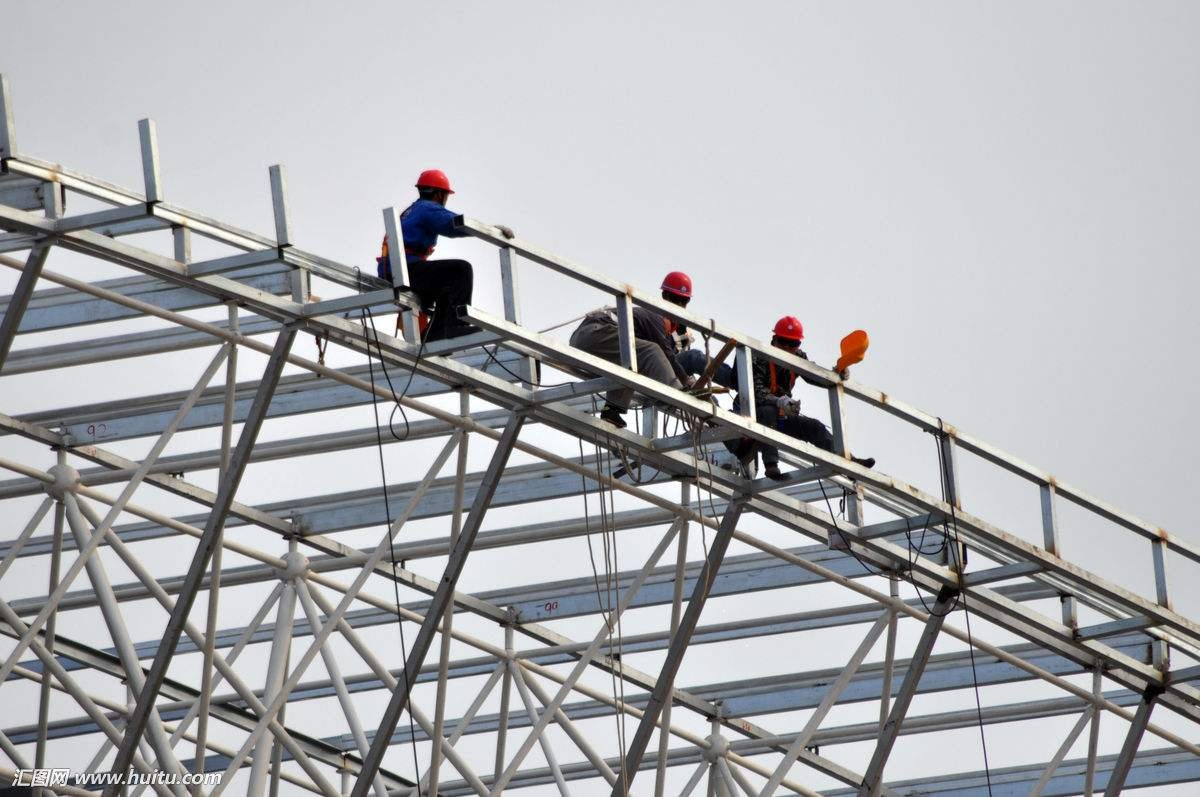red: (413, 162, 456, 214), (764, 310, 805, 358), (657, 265, 695, 315)
